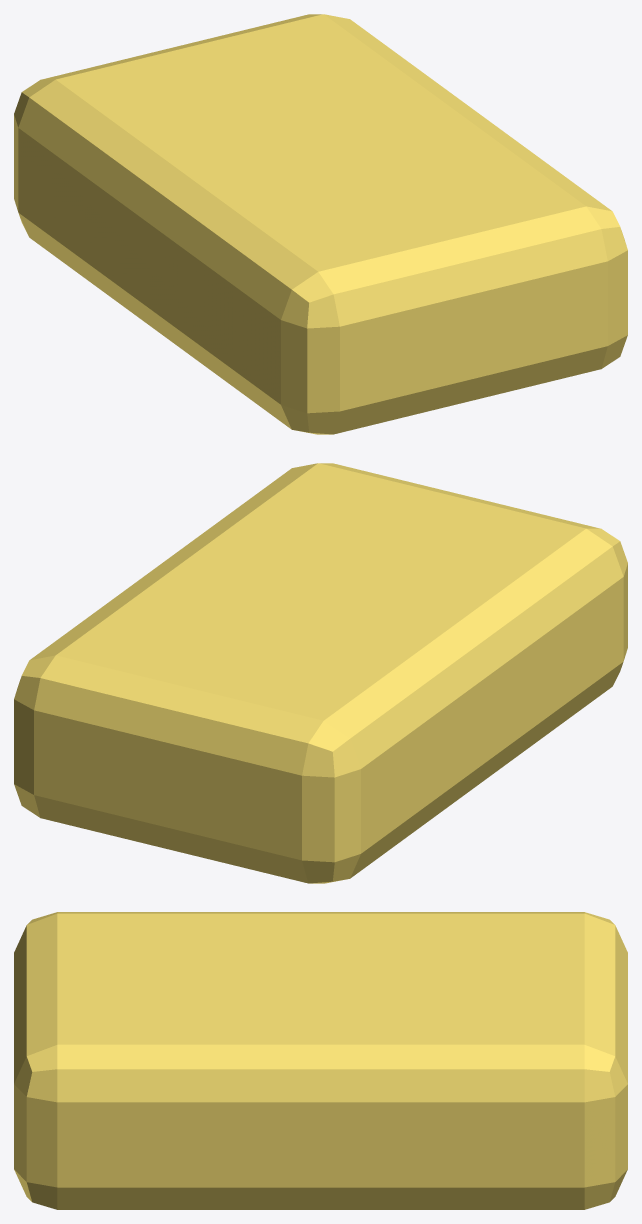
Rendered from GoldIngot.fbx.
3 views of the same model, one above another, from view 1: azimuth 30°, elevation 25°; view 2: azimuth 150°, elevation 25°; view 3: azimuth 270°, elevation 25° (orthographic).
Parts seen in each view (by area): view 1: MainMesh; view 2: MainMesh; view 3: MainMesh.
Boxes of the visible parts, x1,y1,x2,y2 form: MainMesh: [14, 14, 627, 434]; MainMesh: [14, 463, 627, 883]; MainMesh: [14, 912, 627, 1209].
Bounding box in the file's own units: 1.1 × 0.5 × 1.7.
